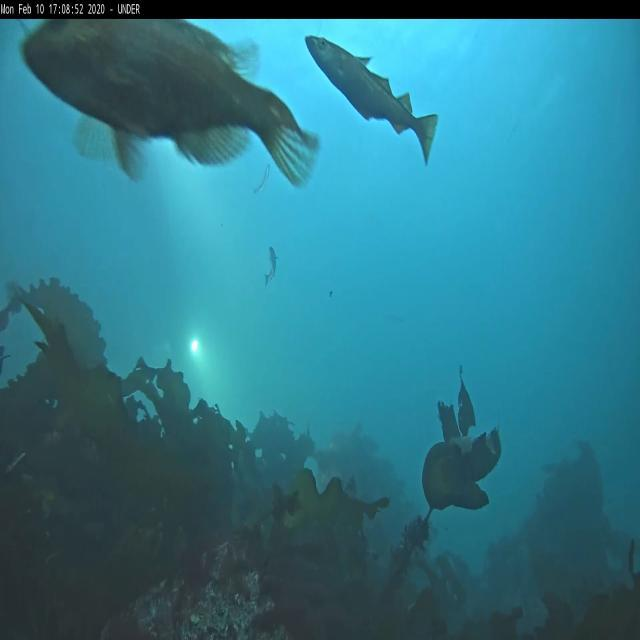fish: (22, 20, 318, 192), (306, 33, 438, 167), (254, 164, 272, 196), (265, 246, 278, 286)
